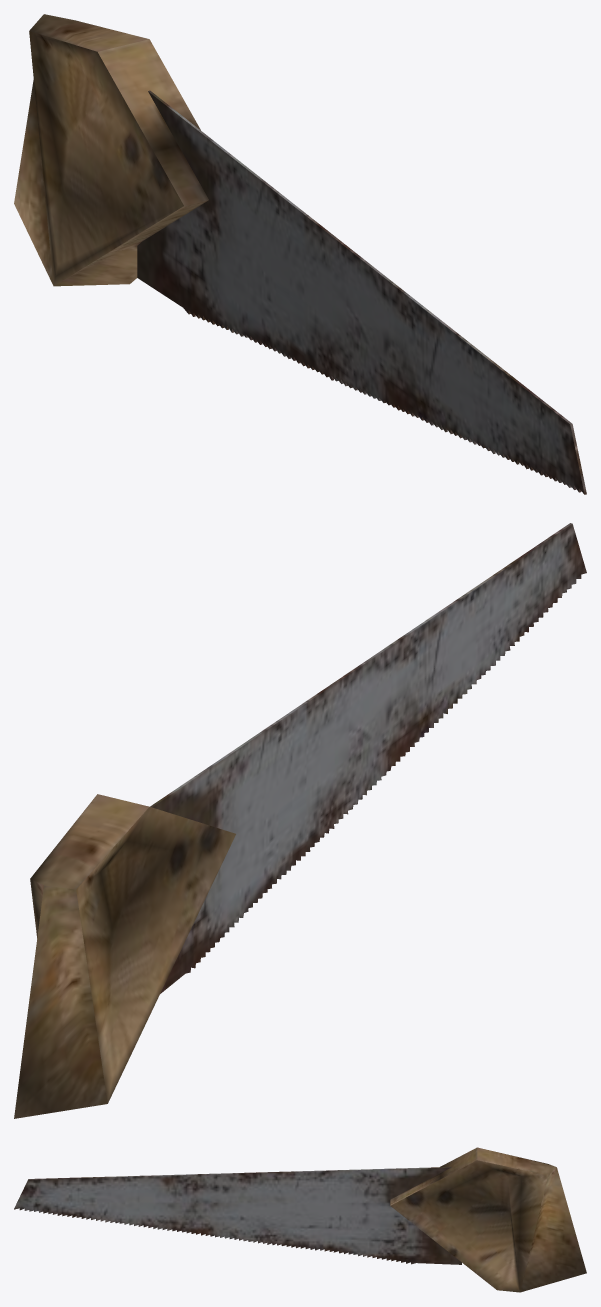
The model's file is handsaw_wood.glb.
3 views of the same model, one above another, from view 1: azimuth 30°, elevation 25°; view 2: azimuth 150°, elevation 25°; view 3: azimuth 270°, elevation 25° (orthographic). The views are drawn at different scales.
Visible parts, largest first — view 1: handsaw_wood; view 2: handsaw_wood; view 3: handsaw_wood.
Part boxes in pixels (x1=…): handsaw_wood: x1=14, y1=14, x2=586, y2=494; handsaw_wood: x1=14, y1=523, x2=586, y2=1118; handsaw_wood: x1=14, y1=1147, x2=586, y2=1292.
Size of the model in its own units: 0.0346 by 0.1628 by 0.628.
1 material, 1 textured.
